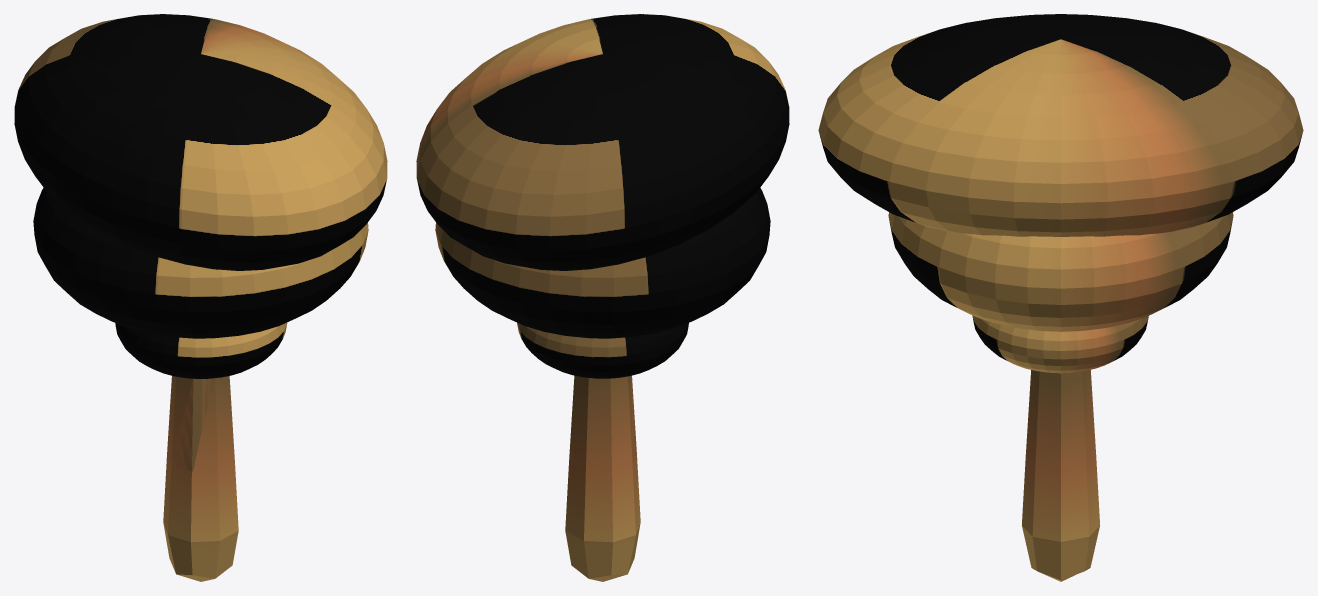
Rendered from Arbol4.fbx.
3 views of the same model, side by side, from view 1: azimuth 30°, elevation 25°; view 2: azimuth 150°, elevation 25°; view 3: azimuth 270°, elevation 25° (orthographic). The views are drawn at different scales.
Parts seen in each view (by area): view 1: Sphere.002, Sphere.001, Cube.004, Sphere.003; view 2: Sphere.002, Sphere.001, Cube.004, Sphere.003; view 3: Sphere.002, Sphere.001, Cube.004, Sphere.003.
Part boxes in pixels (<box>): Sphere.002: <box>14,14,387,270</box>; Sphere.001: <box>33,187,368,338</box>; Cube.004: <box>163,376,238,581</box>; Sphere.003: <box>115,322,287,378</box>; Sphere.002: <box>416,14,789,270</box>; Sphere.001: <box>435,187,770,338</box>; Cube.004: <box>565,375,640,581</box>; Sphere.003: <box>517,322,688,378</box>; Sphere.002: <box>818,14,1303,236</box>; Sphere.001: <box>888,212,1233,331</box>; Cube.004: <box>1022,370,1099,581</box>; Sphere.003: <box>972,315,1148,373</box>.
Bounding box in the file's own units: 513 × 889 × 720.
2 materials, 2 textured.
